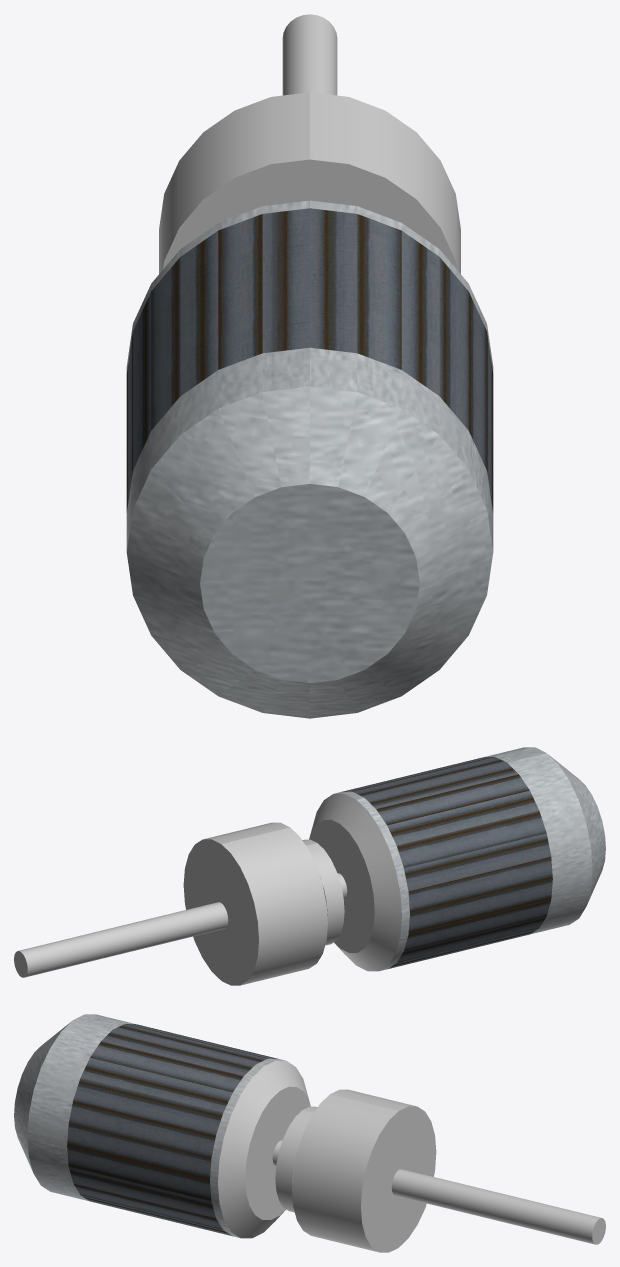
3 renders of one model, top to bottom at view 1: azimuth 30°, elevation 25°; view 2: azimuth 150°, elevation 25°; view 3: azimuth 270°, elevation 25°, orthographic. The views are drawn at different scales.
Parts seen in each view (by area): view 1: root; view 2: root; view 3: root.
Boxes of the visible parts, x1,y1,x2,y2 form: root: (126, 14, 493, 718); root: (14, 747, 605, 985); root: (14, 1014, 605, 1252).
Bounding box in the file's own units: 0.7461 × 0.3463 × 1.12.
3 materials, 2 textured.
